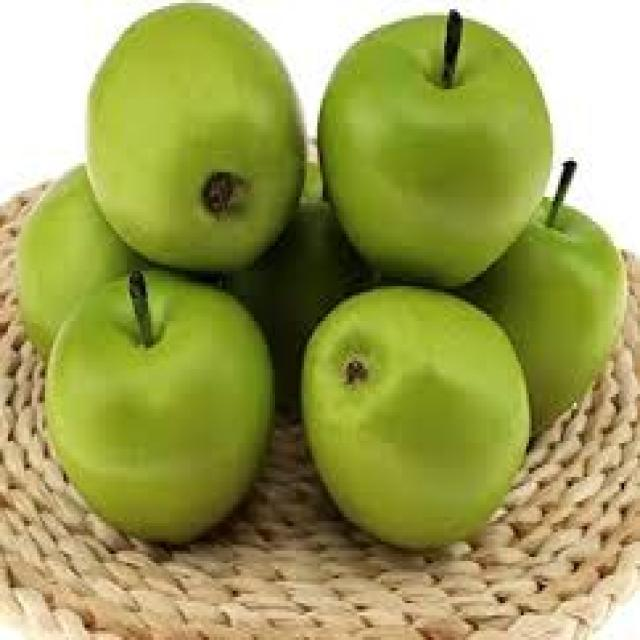apple: (319, 14, 552, 285), (45, 271, 273, 540), (302, 288, 528, 547), (87, 4, 304, 270), (461, 199, 626, 437), (17, 165, 137, 348)
